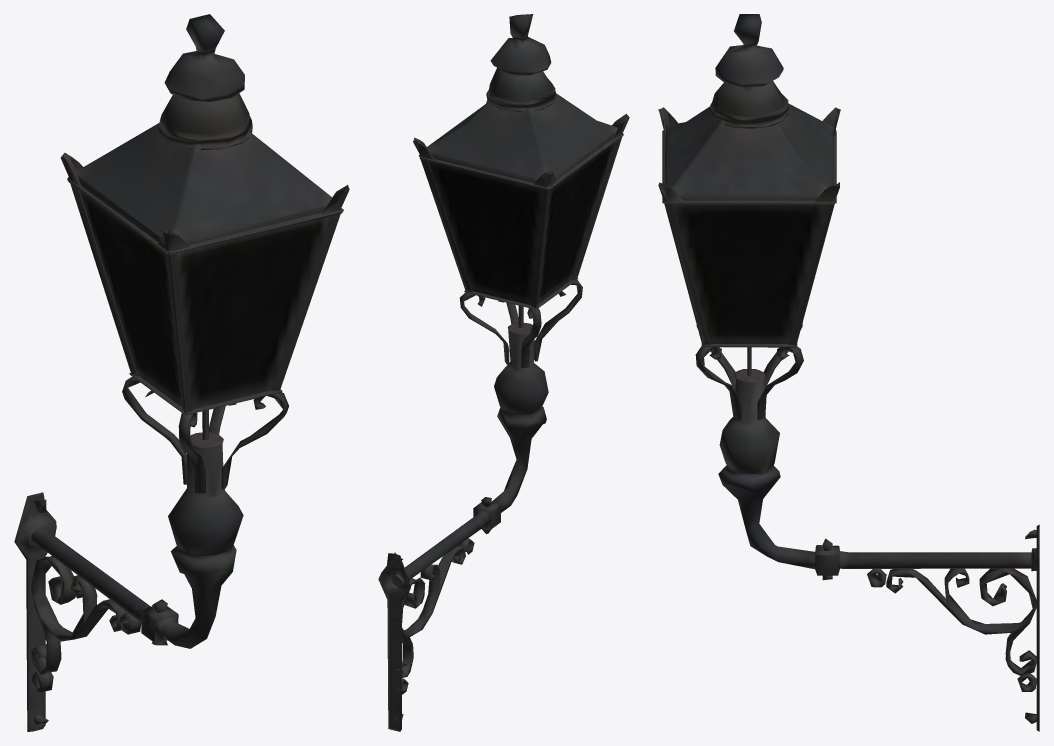
The model's file is ph_streetlamp_2.glb.
The picture shows the model from 3 angles, left to right: view 1: azimuth 30°, elevation 25°; view 2: azimuth 150°, elevation 25°; view 3: azimuth 270°, elevation 25°; orthographic projection. The views are drawn at different scales.
Visible parts, largest first — view 1: ph_streetlamp_2; view 2: ph_streetlamp_2; view 3: ph_streetlamp_2.
Part boxes in pixels (x1=…): ph_streetlamp_2: x1=14, y1=14, x2=349, y2=731; ph_streetlamp_2: x1=378, y1=14, x2=629, y2=731; ph_streetlamp_2: x1=658, y1=14, x2=1039, y2=731.
Bounding box in the file's own units: 0.3863 × 1.66 × 0.8067.
Materials: 3 (3 with a texture image).
